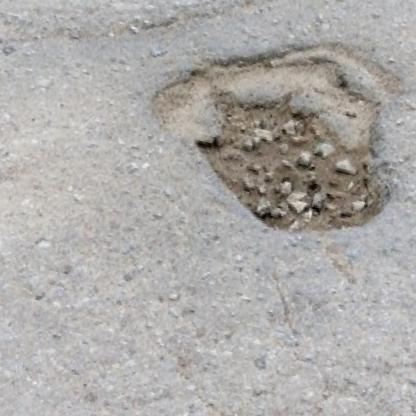pothole: (123, 0, 416, 260)
